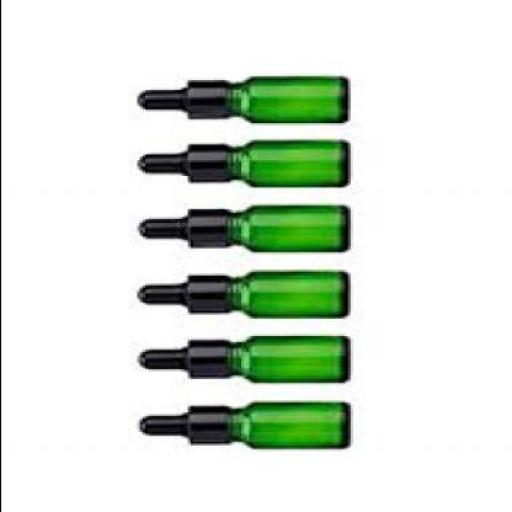glass: (224, 142, 347, 190), (223, 78, 344, 125), (224, 208, 347, 254), (227, 404, 347, 451), (223, 338, 344, 384), (226, 274, 344, 320)
plastic: (130, 277, 224, 317), (135, 341, 224, 381), (133, 82, 224, 121), (136, 408, 227, 446), (136, 211, 222, 251), (136, 146, 222, 184)
